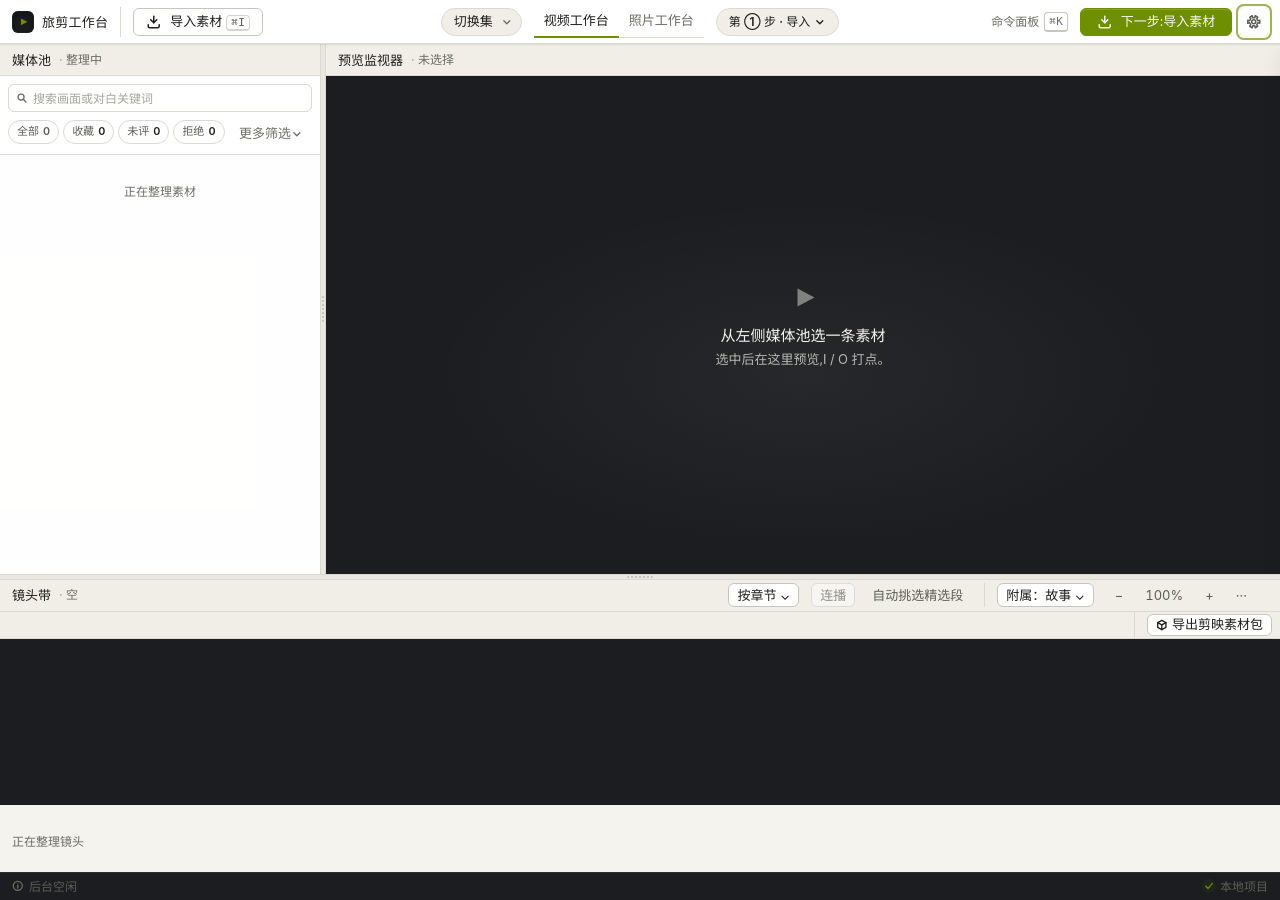
Test: R10 U-24:Whisper 模型缺失态 › 显示官方地址(可复制)、期望 SHA-256、目标路径与「导入模型文件…」
Click the button named "设置" at (1254, 22), box x1=1240 y1=8 x2=1268 y2=36
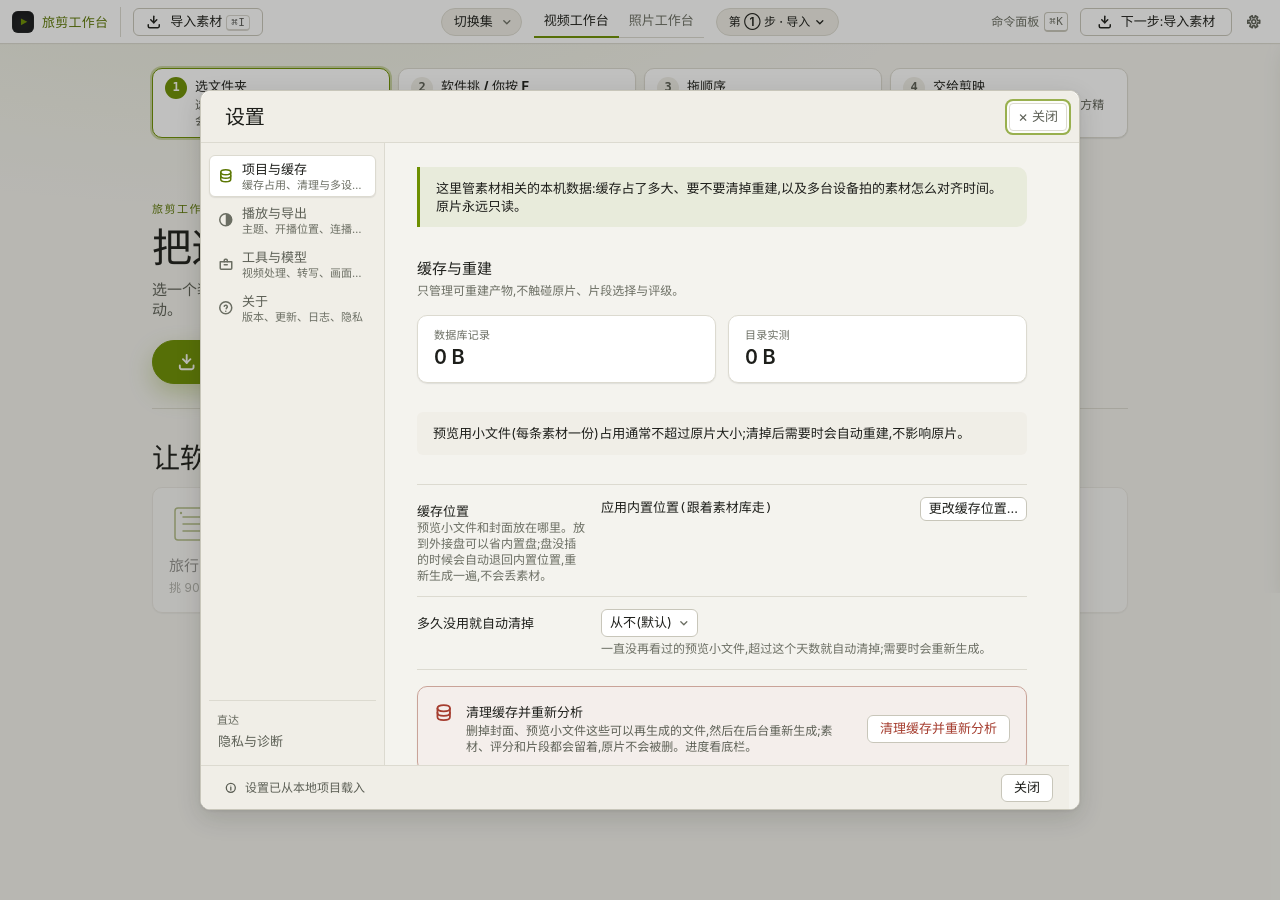
Now the message reads "设置已从本地项目载入", box x1=245 y1=780 x2=365 y2=794
Click the tab "工具与模型 视频处理、转写、画面识别、云端补镜" at (292, 264), box x1=209 y1=243 x2=376 y2=285
(page scrolled)
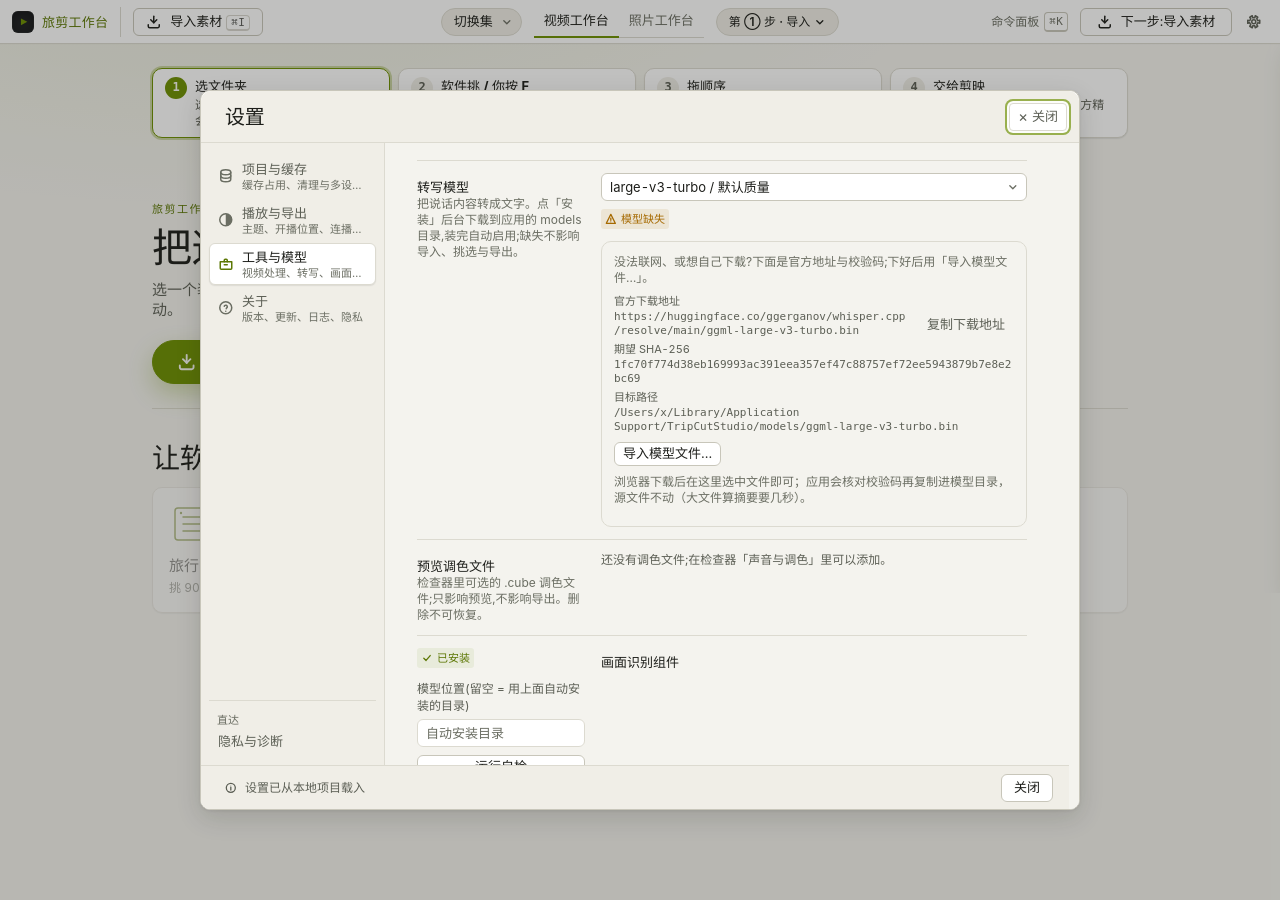
Now the text "https://huggingface.co/ggerganov/whisper.cpp/resolve/main/ggml-large-v3-turbo.bin" is shown, box x1=614 y1=310 x2=905 y2=337
Now the text "1fc70f774d38eb169993ac391eea357ef47c88757ef72ee5943879b7e8e2bc69" is shown, box x1=614 y1=358 x2=1014 y2=386
Now the text "/Users/x/Library/Application Support/TripCutStudio/models/ggml-large-v3-turbo.bin" is shown, box x1=614 y1=406 x2=958 y2=433
